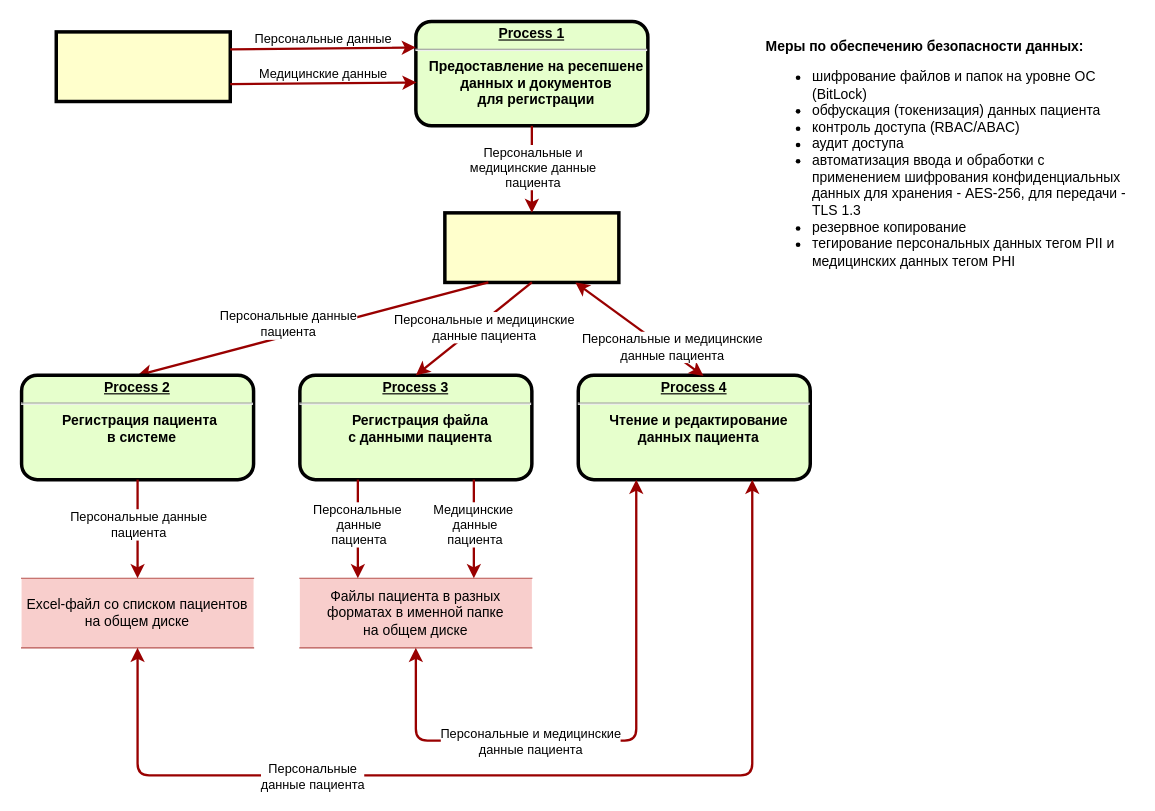
This 1155x811 diagram has some shape labels left out. The shapes that lost their labels are listed below. From the top down, each one's centre as x and y in pixels, then its label:
At point 142,66: "Пациент".
At point 531,247: "Администратор".
